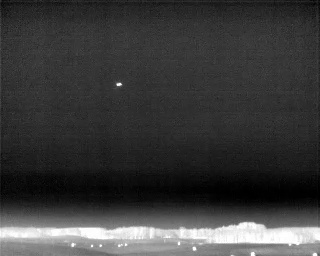AIRPLANE: (114, 80, 124, 89)
